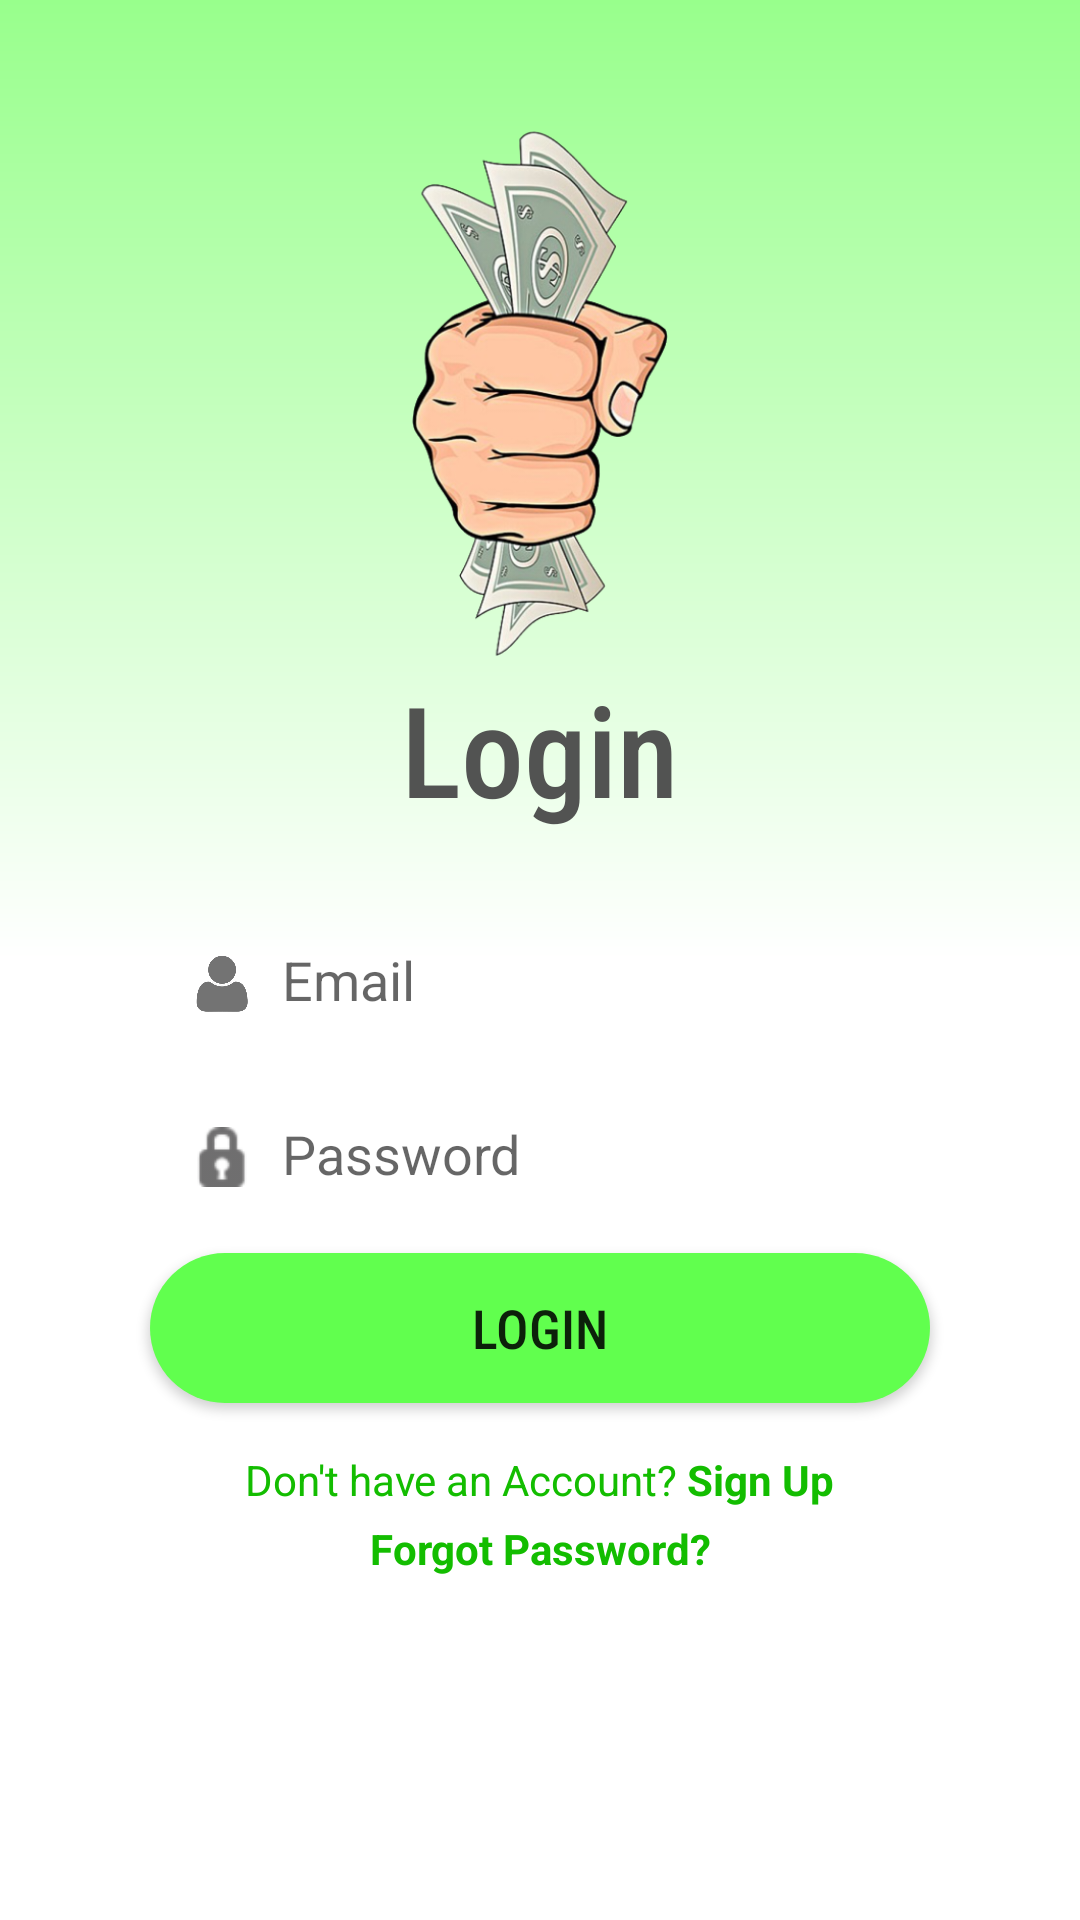

Icon bounding boxes for this 1080px×1920px phone screenshot, format bbox=(x1, y1, x2, y2):
secure: bbox=(199, 1127, 245, 1187)
user: bbox=(196, 956, 248, 1012)
